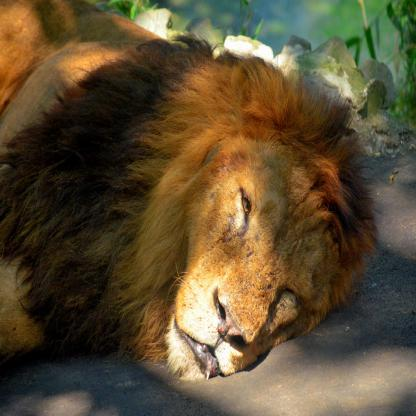lion: (160, 81, 361, 388)
